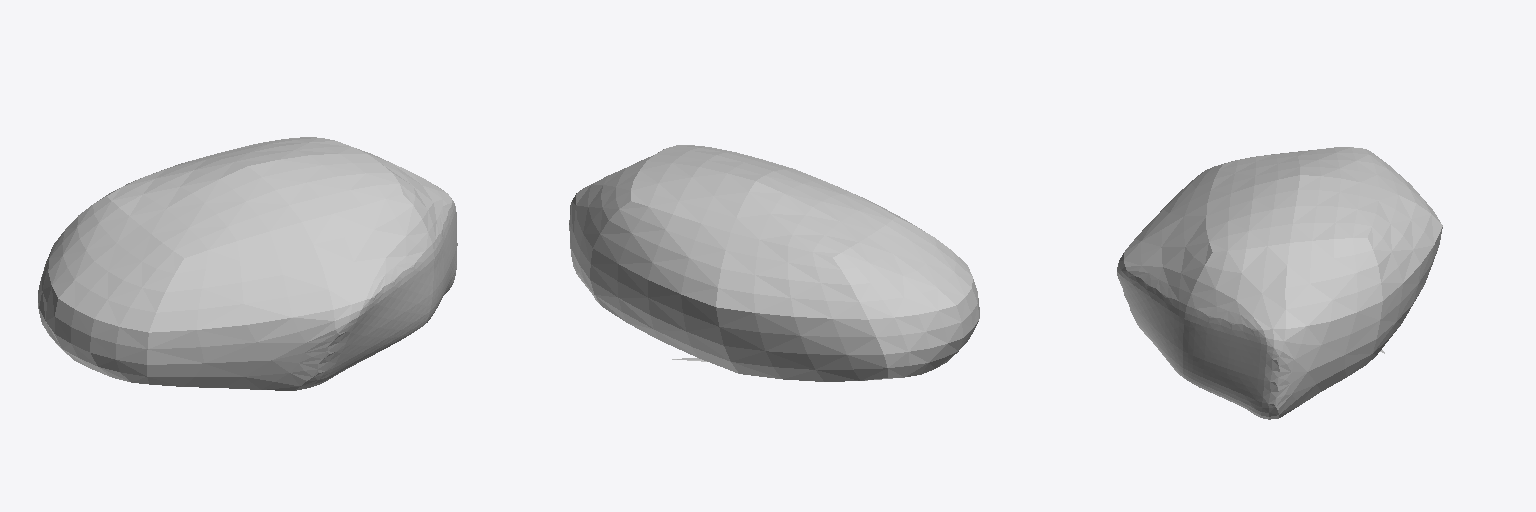
Rendered from stone_1.obj.
3 views of the same model, side by side, from view 1: azimuth 30°, elevation 25°; view 2: azimuth 150°, elevation 25°; view 3: azimuth 270°, elevation 25° (orthographic).
Parts seen in each view (by area): view 1: stone1; view 2: stone1; view 3: stone1.
Boxes of the visible parts, box(x1,y1,x2,y2) form: stone1: box(38, 137, 457, 390); stone1: box(569, 145, 979, 381); stone1: box(1117, 147, 1442, 419).
Size of the model in its own units: 3.7 by 1.46 by 2.63.